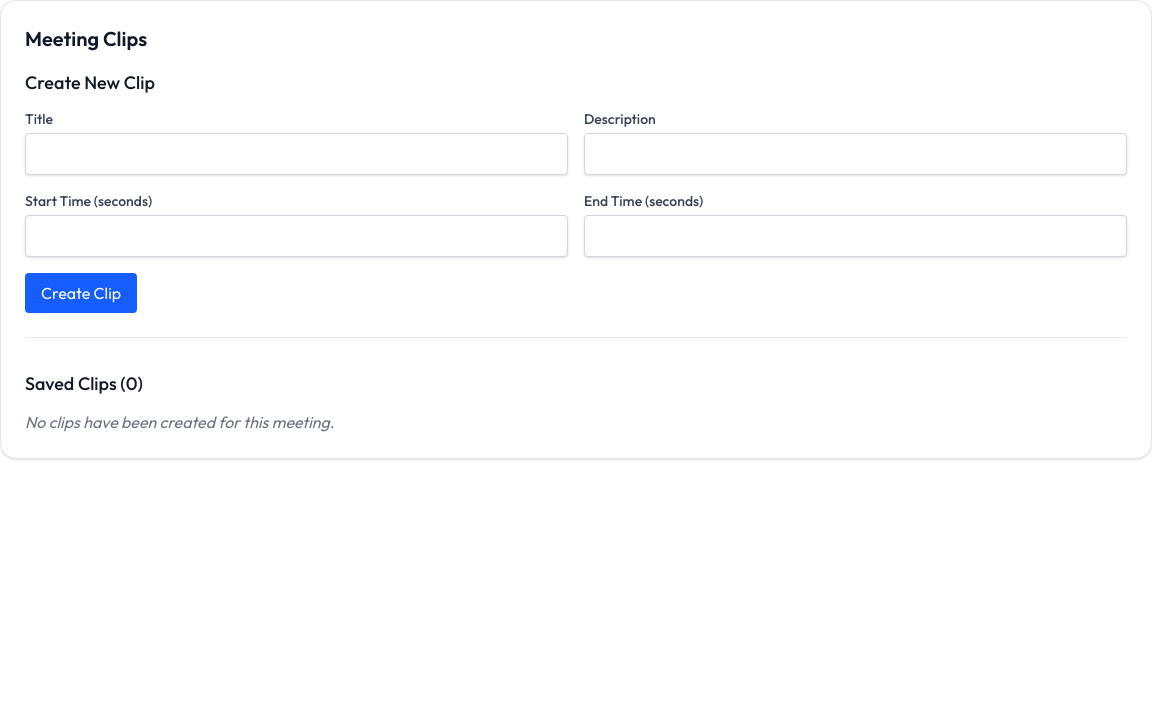
Test: ClipManager (#1987) › creates a clip through meetingClipApi.createClip
The image size is (1152, 720).
Expected: the text "No clips have been created for this meeting." is shown, [25, 412, 334, 432]
Type "New clip" into the field labelled "Title".
click(296, 154); type("New clip")  # box [25, 133, 568, 175]
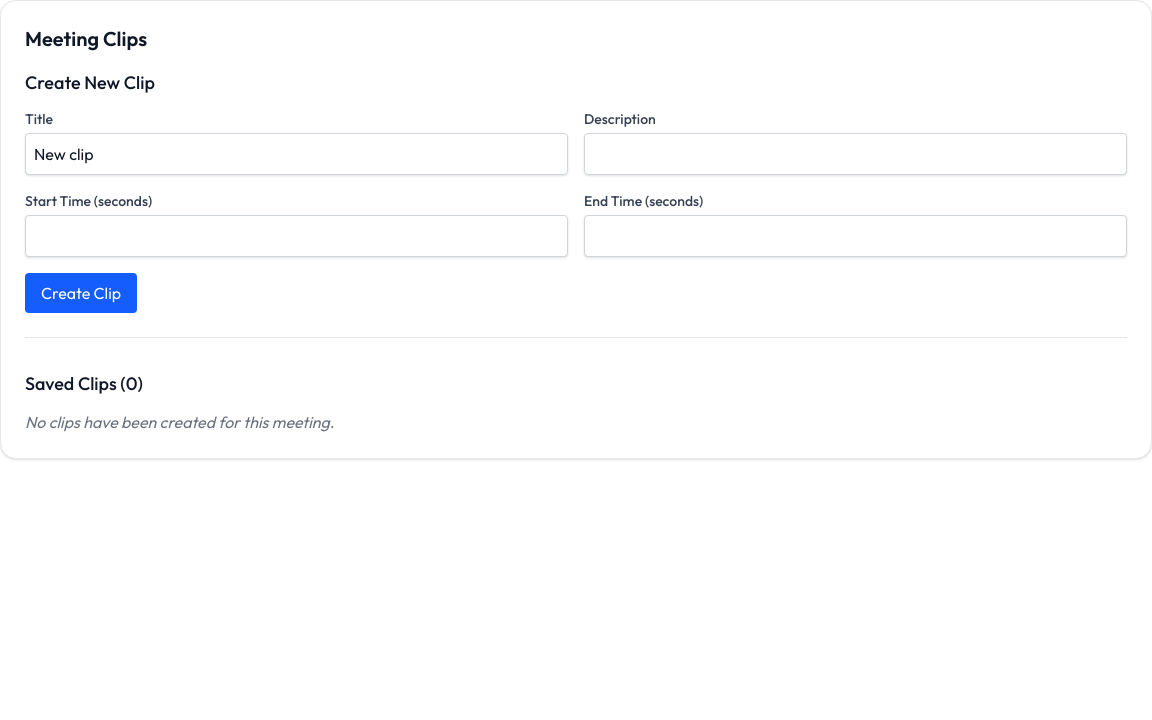
Type "5" into the number field labelled "Start Time (seconds)".
click(296, 236); type("5")  # box [25, 215, 568, 257]
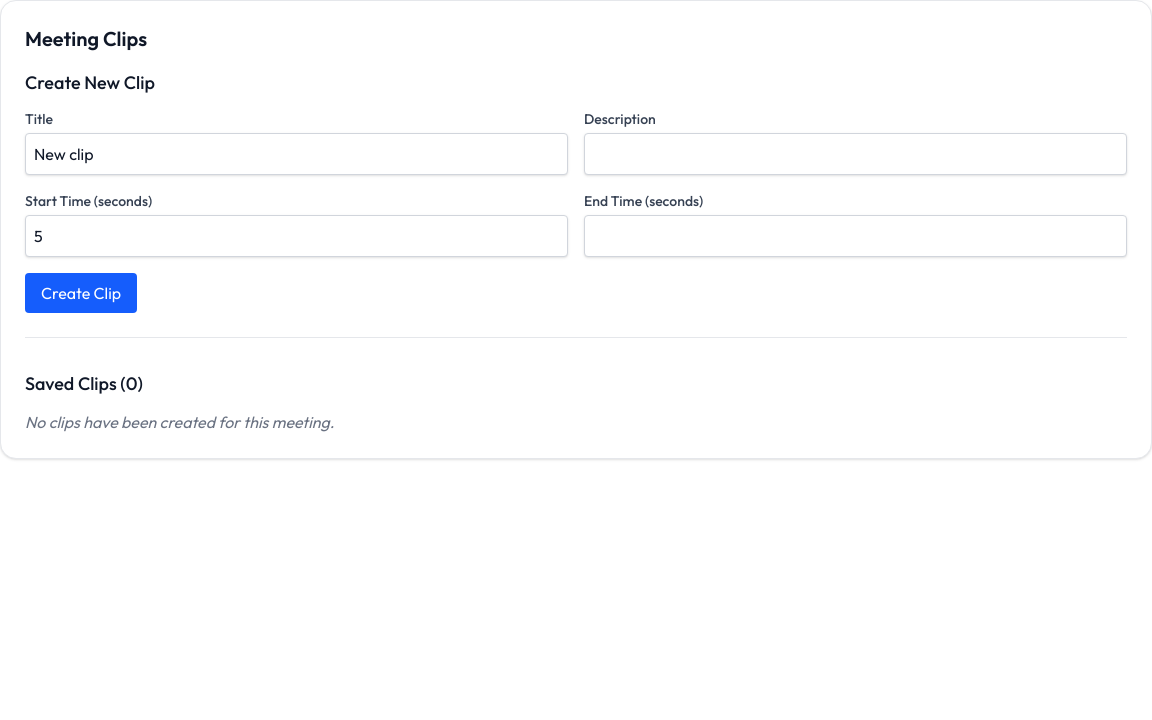
Type "15" into the number field labelled "End Time (seconds)".
click(856, 236); type("15")  # box [584, 215, 1127, 257]
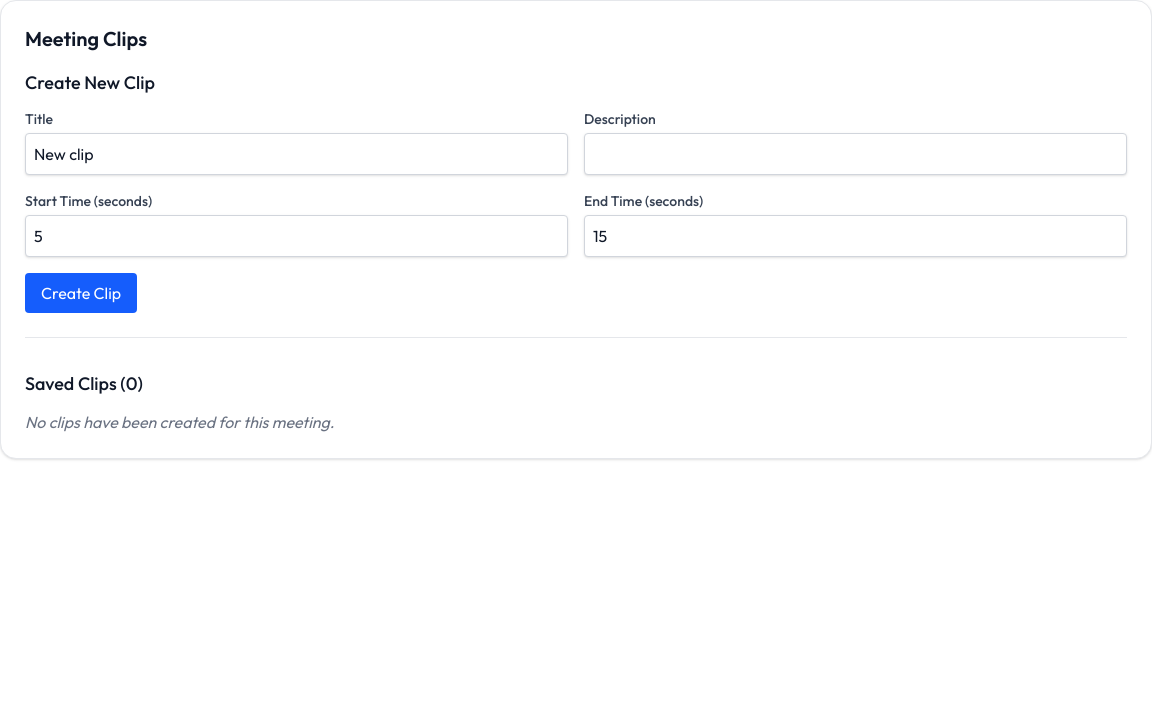
Click the button "Create Clip".
click(81, 293)  # box [25, 273, 137, 313]
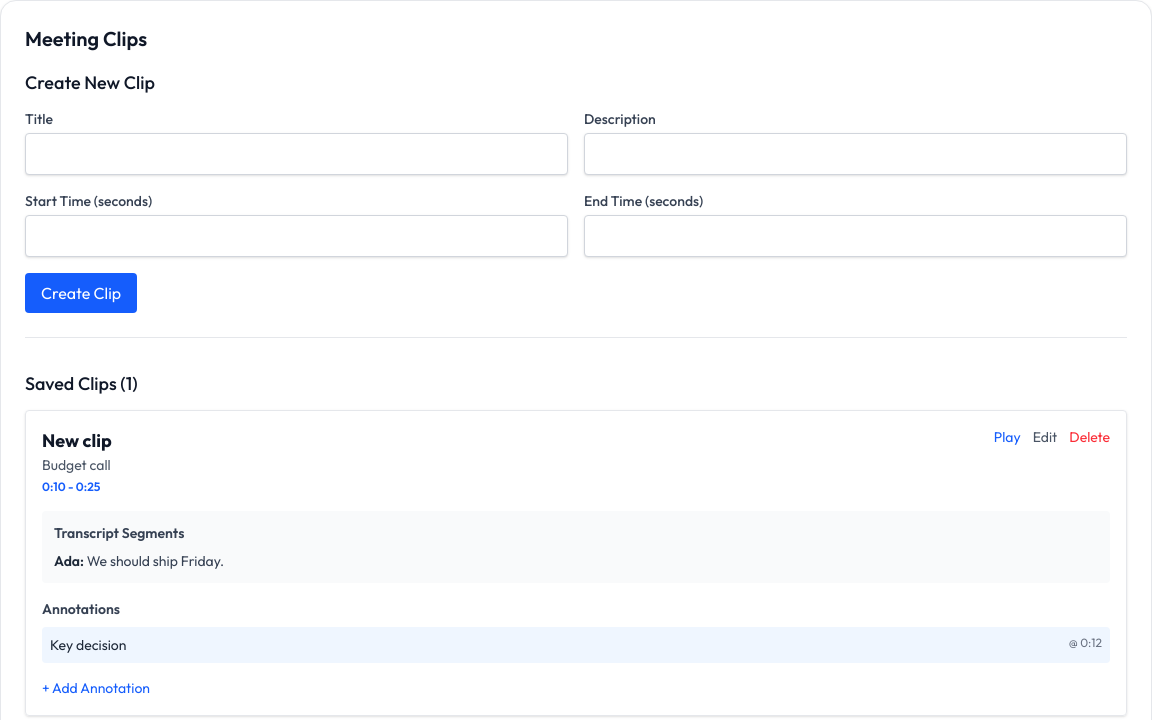
Now the heading "New clip" is shown, box [42, 427, 112, 455]
